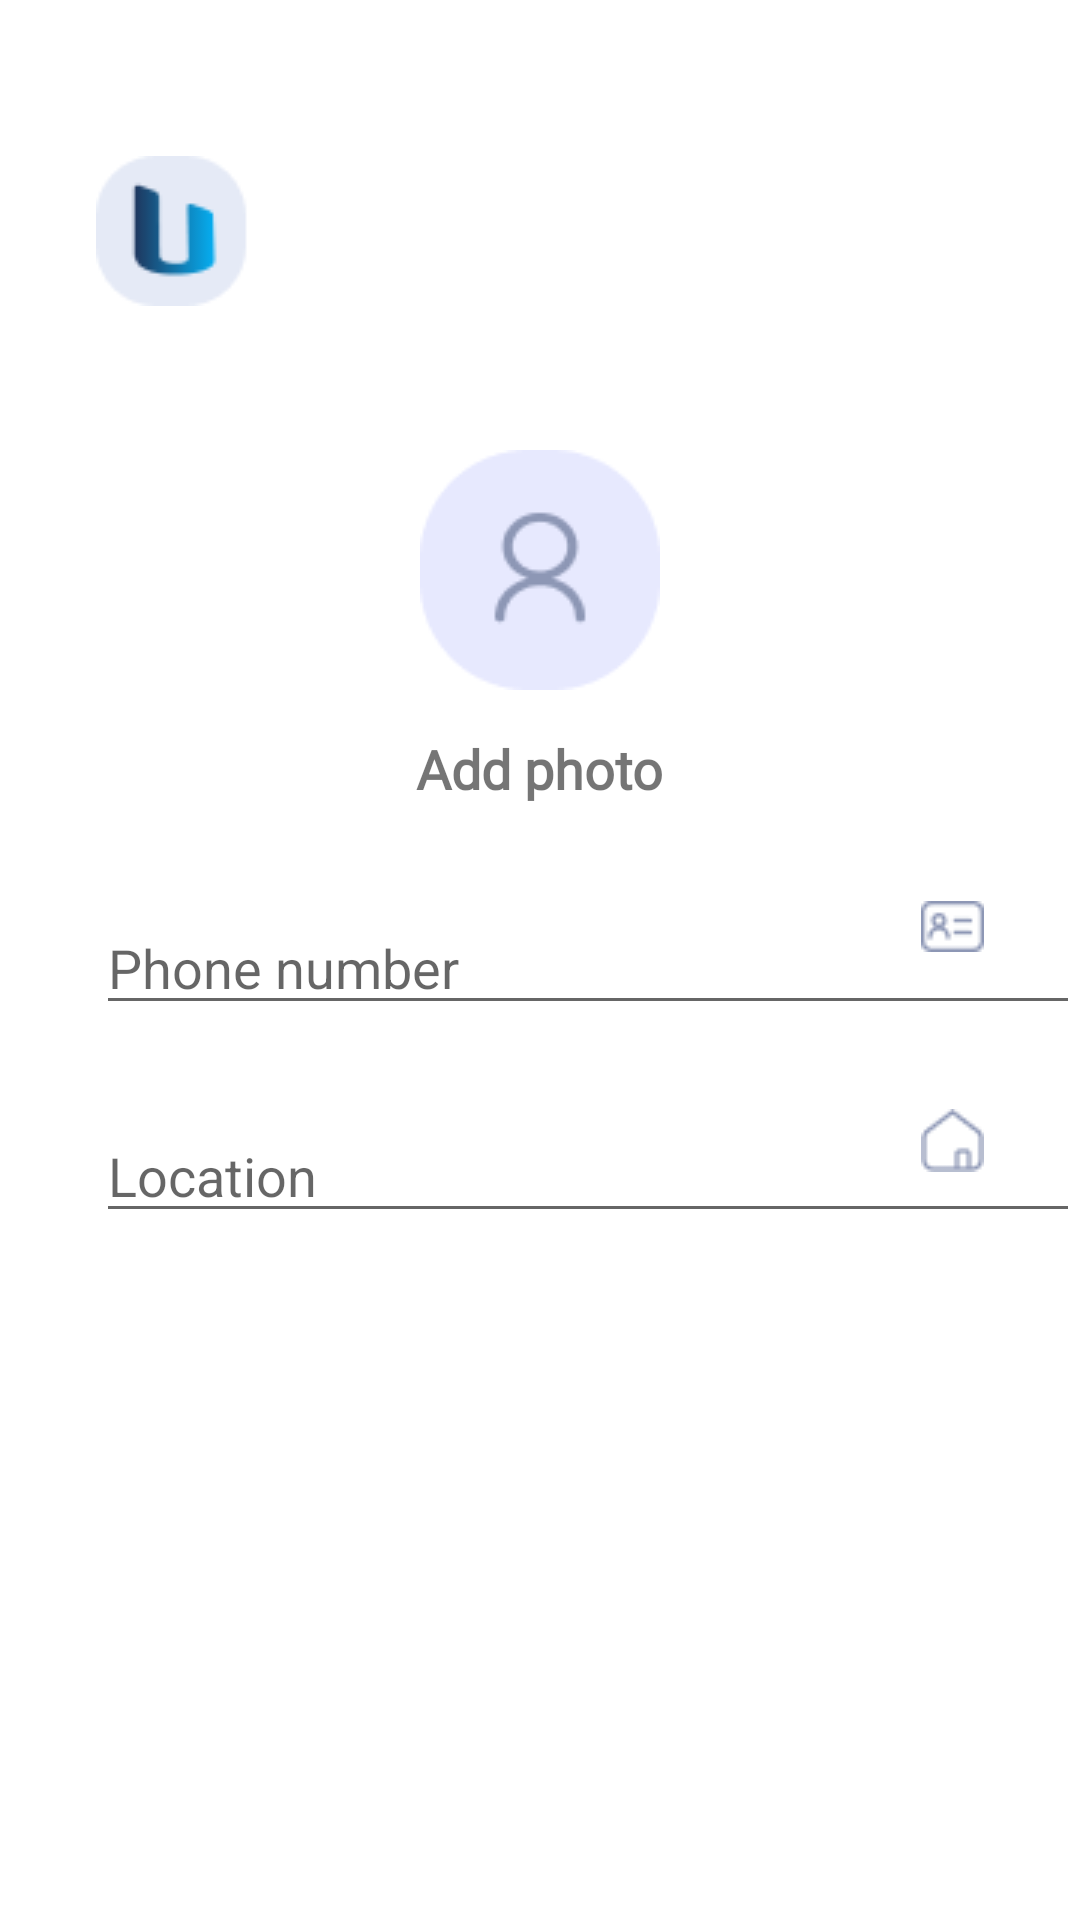

Named icons in this screenshot (1080px x 1920px) and their centers, point (x, y):
address: point (952, 1140)
infocard: point (952, 926)
User profile picture: point (540, 570)
